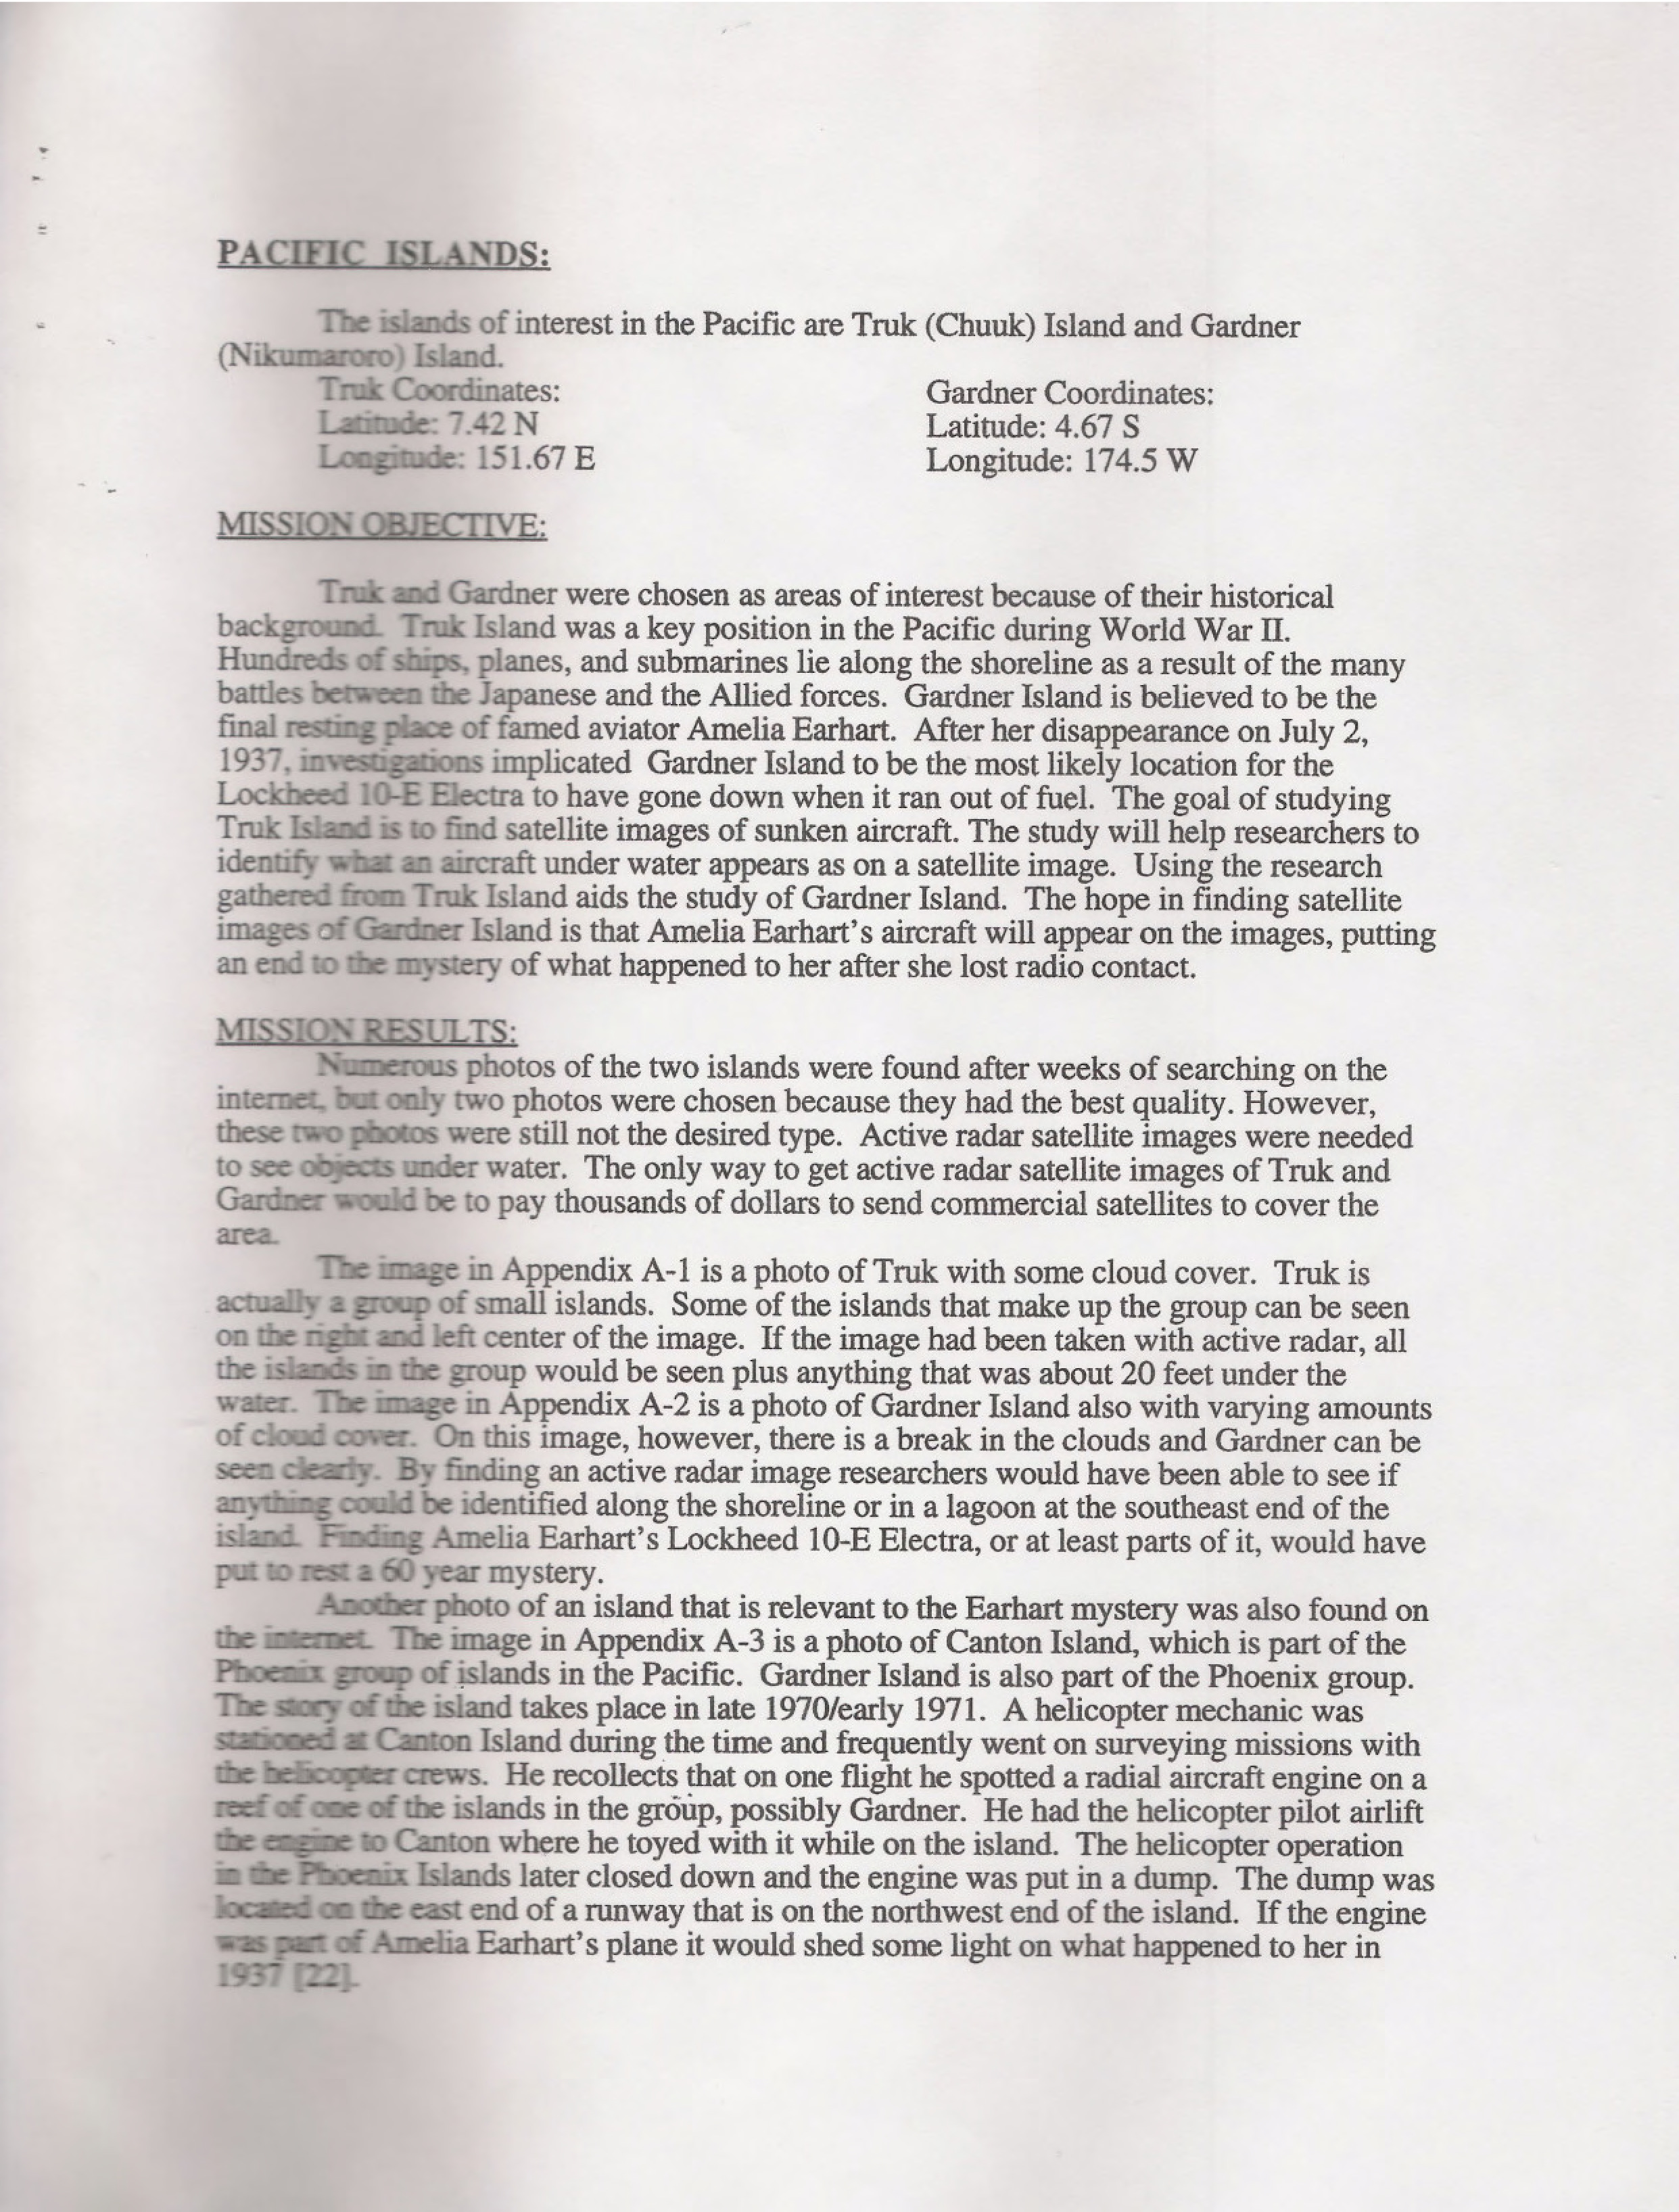list: (903, 388, 1235, 492), (307, 388, 617, 476)
section: (189, 219, 570, 284), (206, 499, 584, 554), (196, 1009, 533, 1058)
text: (199, 577, 1427, 991), (208, 1595, 1432, 2004), (203, 1254, 1432, 1591), (206, 1065, 1406, 1244), (189, 296, 1316, 392)
